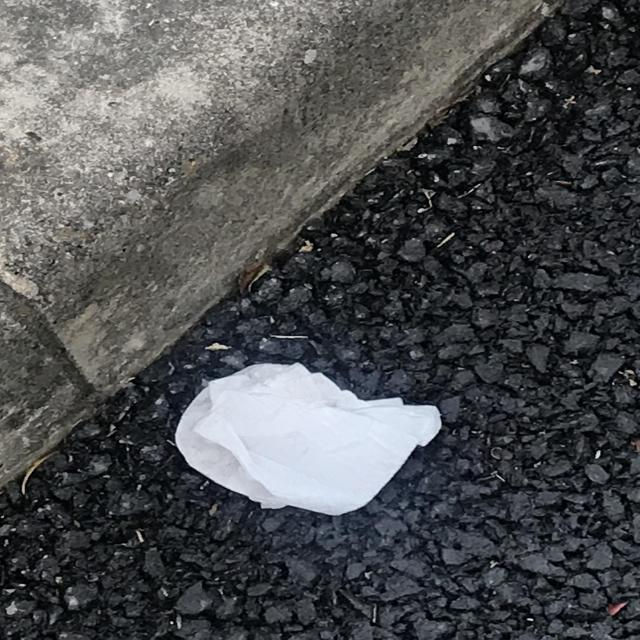giay: (174, 364, 444, 519)
